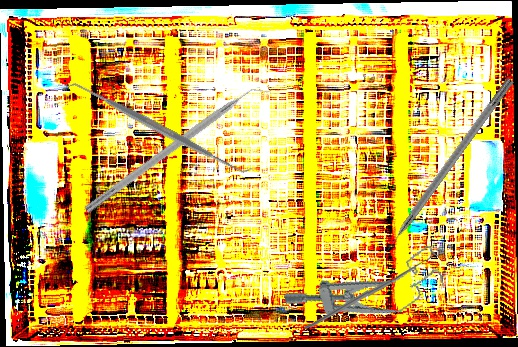Chopper: (83, 77, 274, 224)
Hook Surgical: (378, 75, 514, 258), (303, 247, 433, 332)
Spatula Surgical: (61, 70, 254, 186)
Speculum: (280, 242, 452, 339)
